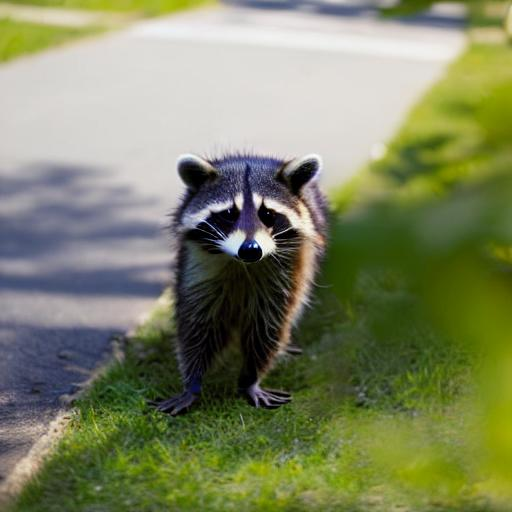raccoon: (162, 145, 342, 389)
